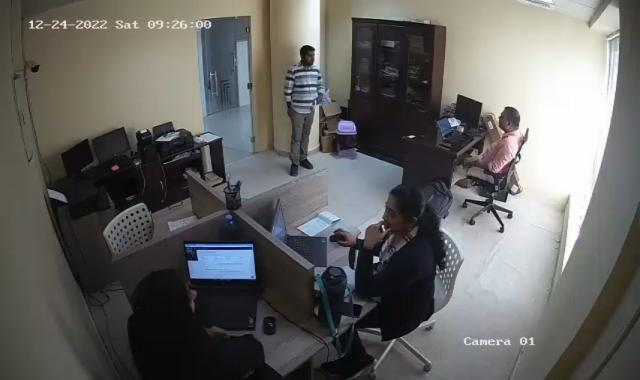no_hairnet: (133, 270, 200, 328), (382, 183, 427, 232), (496, 104, 521, 132), (298, 44, 317, 67)
